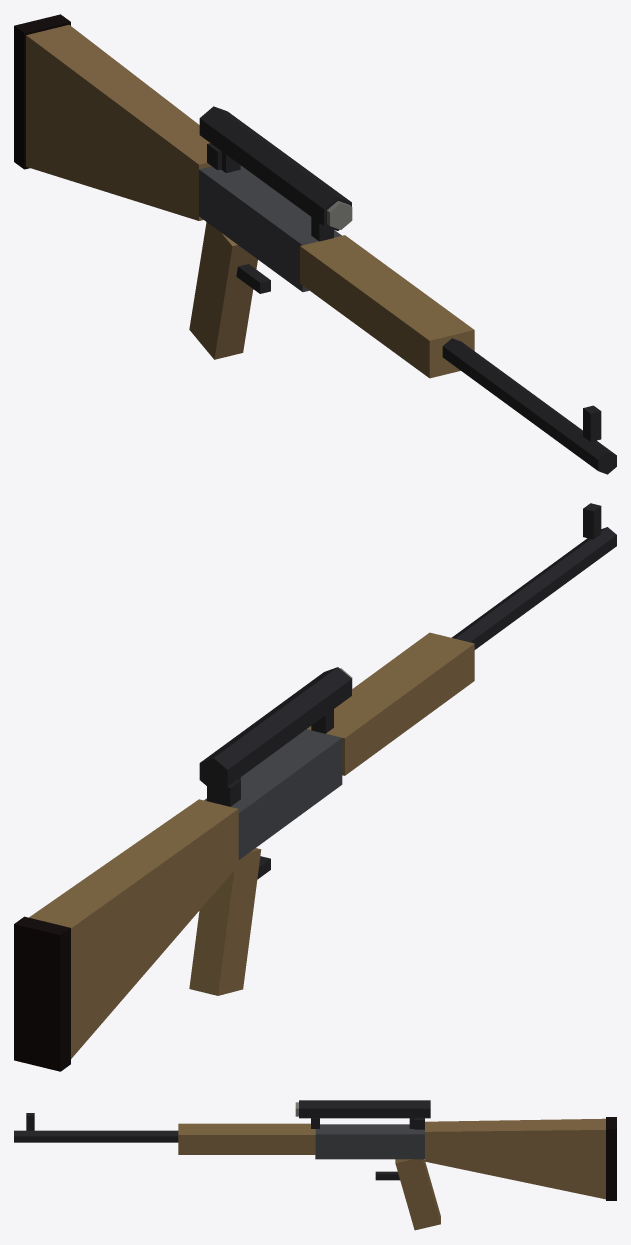
The model's file is wtype_rifle.glb.
The picture shows the model from 3 angles, top to bottom: view 1: azimuth 30°, elevation 25°; view 2: azimuth 150°, elevation 25°; view 3: azimuth 270°, elevation 25°; orthographic projection. The views are drawn at different scales.
Visible parts, largest first — view 1: wtype_rifle; view 2: wtype_rifle; view 3: wtype_rifle.
Boxes of the visible parts, x1,y1,x2,y2 form: wtype_rifle: [14, 14, 616, 474]; wtype_rifle: [14, 503, 616, 1071]; wtype_rifle: [14, 1100, 616, 1230].
Size of the model in its own units: 0.052 by 0.2543 by 1.1.
